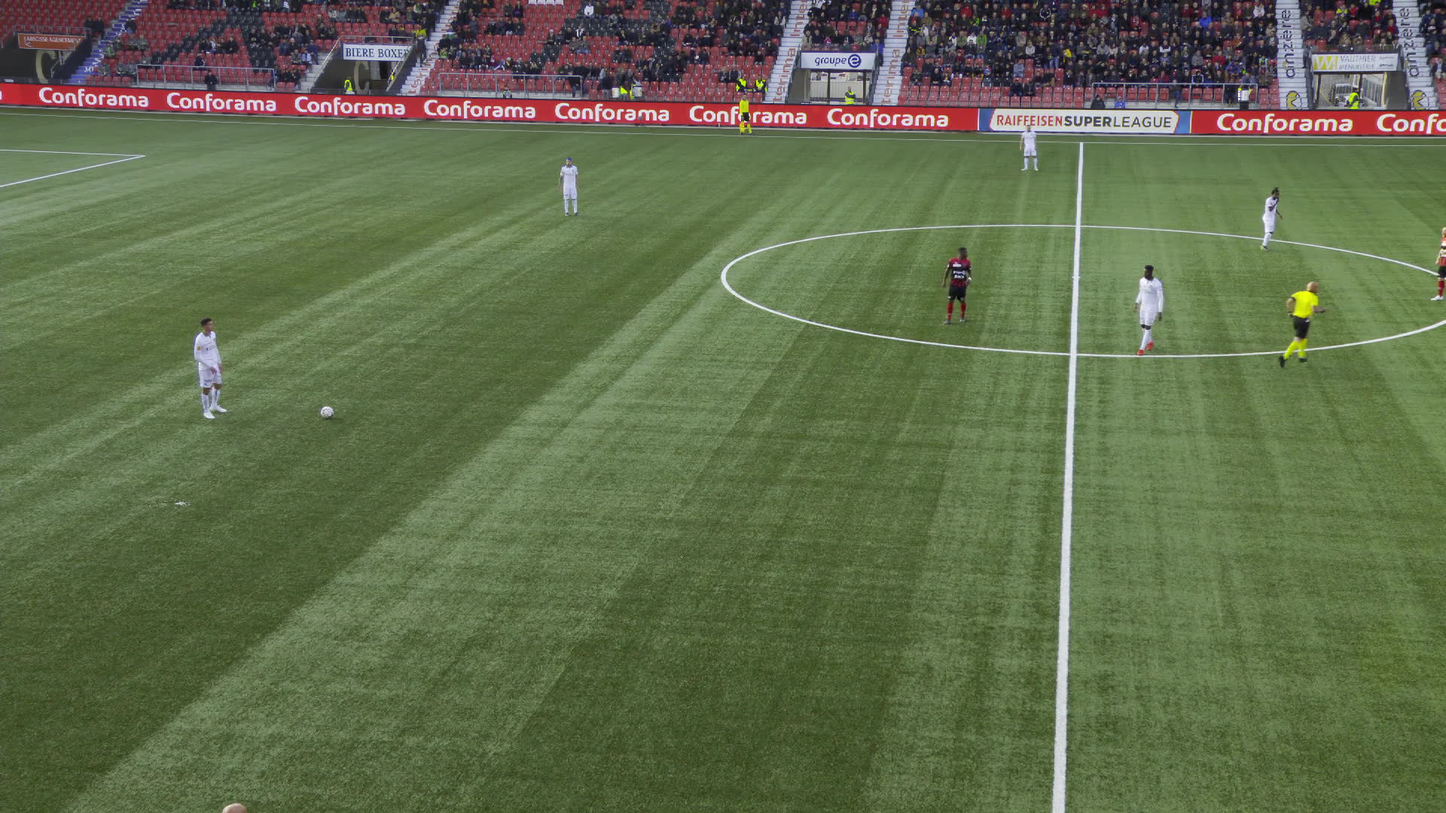ball: (320, 405, 333, 417)
player: (193, 318, 227, 418), (1133, 263, 1164, 355), (941, 247, 972, 325), (1257, 187, 1281, 251), (558, 156, 579, 215), (1429, 226, 1444, 300), (1020, 123, 1038, 170)
referee: (1276, 282, 1327, 365), (739, 93, 754, 135)
